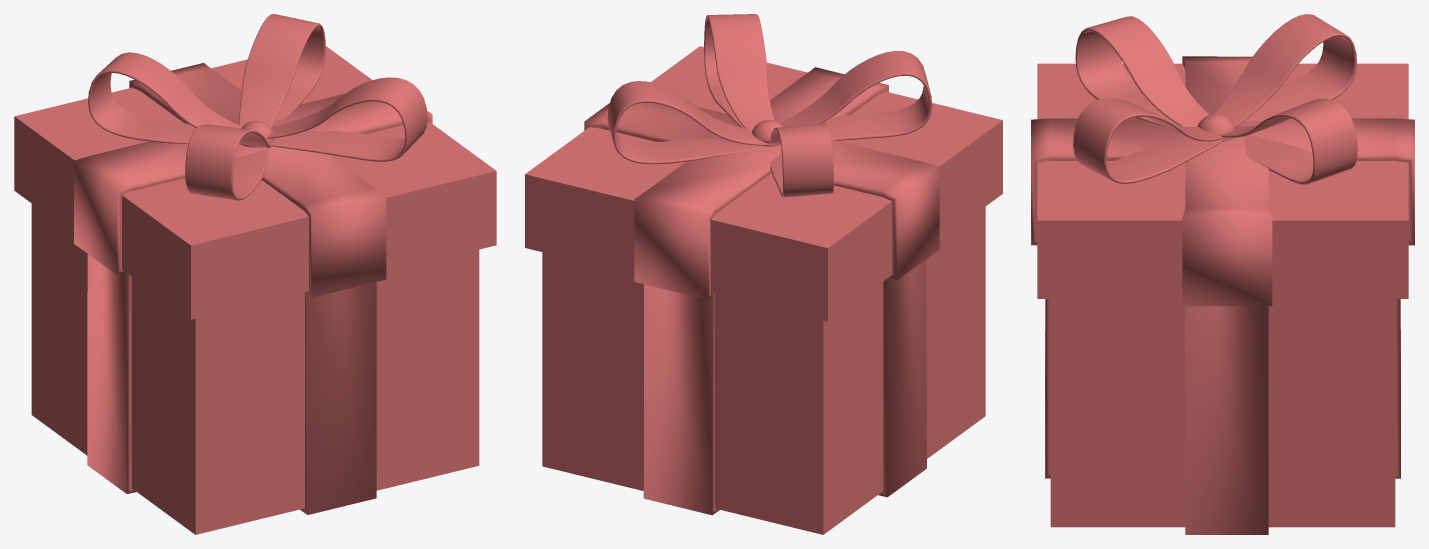
The model's file is present.glb.
3 views of the same model, side by side, from view 1: azimuth 30°, elevation 25°; view 2: azimuth 150°, elevation 25°; view 3: azimuth 270°, elevation 25° (orthographic). The views are drawn at different scales.
Visible parts, largest first — view 1: Cube, Cube.001, BézierCircle.001, BézierCircle, BézierCircle.002, BézierCircle.003; view 2: Cube, Cube.001, BézierCircle.003, BézierCircle, BézierCircle.001, BézierCircle.002; view 3: Cube, Cube.001, BézierCircle.002, BézierCircle.003, BézierCircle.001, BézierCircle, Sphere.
Part boxes in pixels (x1,y1,x2,y2): Cube: (14, 46, 496, 534); Cube.001: (74, 63, 432, 514); BézierCircle.001: (239, 14, 325, 127); BézierCircle: (267, 77, 427, 161); BézierCircle.002: (88, 52, 246, 145); BézierCircle.003: (185, 124, 271, 200); Cube: (525, 46, 1002, 534); Cube.001: (584, 67, 939, 515); BézierCircle.003: (781, 51, 932, 140); BézierCircle: (704, 14, 774, 129); BézierCircle.001: (607, 81, 769, 164); BézierCircle.002: (763, 123, 833, 197); Cube: (1035, 62, 1410, 527); Cube.001: (1031, 56, 1414, 534); BézierCircle.002: (1214, 14, 1356, 126); BézierCircle.003: (1075, 16, 1209, 126); BézierCircle.001: (1220, 98, 1357, 184); BézierCircle: (1073, 98, 1224, 183); Sphere: (1197, 114, 1235, 141).
Bounding box in the file's own units: 4.01 × 4.58 × 4.01.
